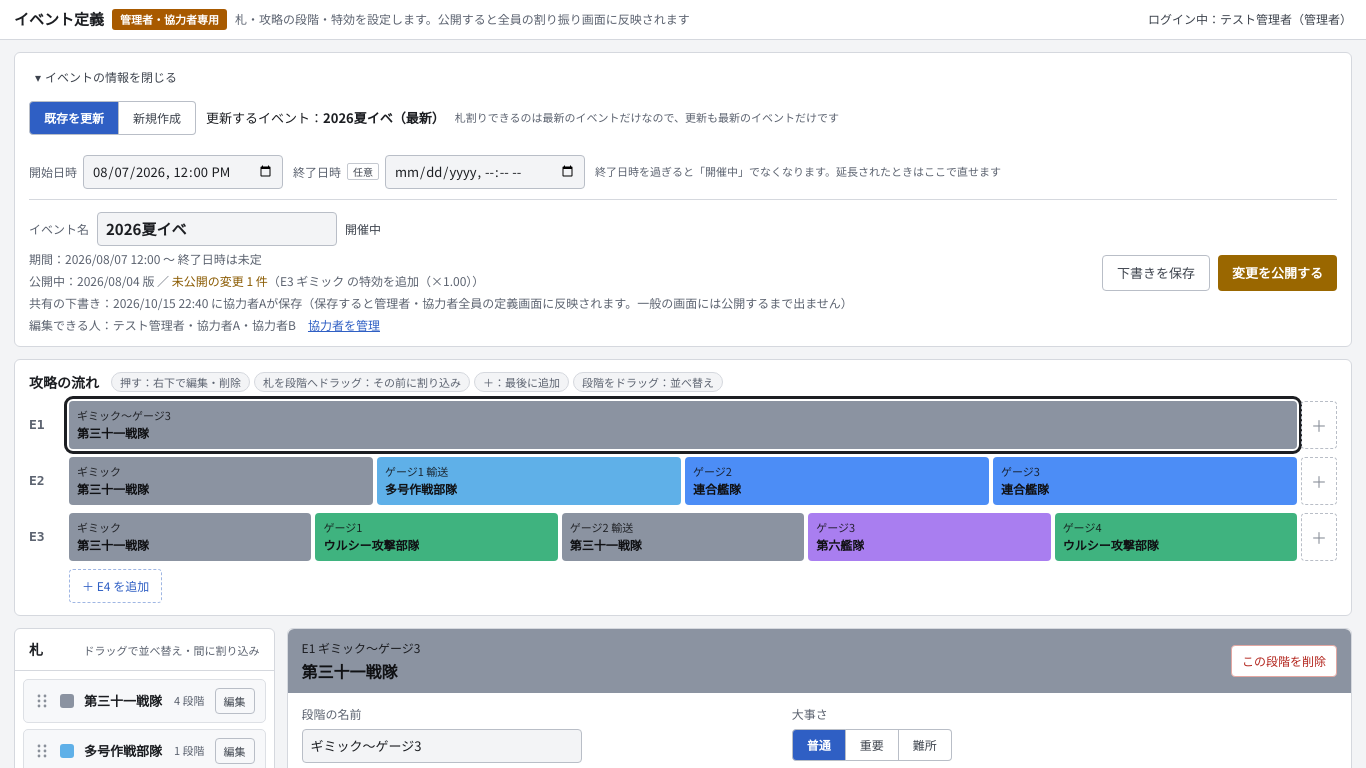
Test: イベント定義の画面（PlanEditor）：公開の前の確認（UI／UX の指摘 中8） › 警告の一覧 › 空の特効グループ（名前なし・×1・艦名なし・国籍なし）が、選んでいない段階（E3 ギミック）にあっても、「空の特効グループ」と段階名を警告する
The image size is (1366, 768).
Expected: the element "攻略の流れ" is shown, [14,358,1352,616]
Click the button "変更を公開する". click: (1278, 272)
box: [1218,254,1337,290]
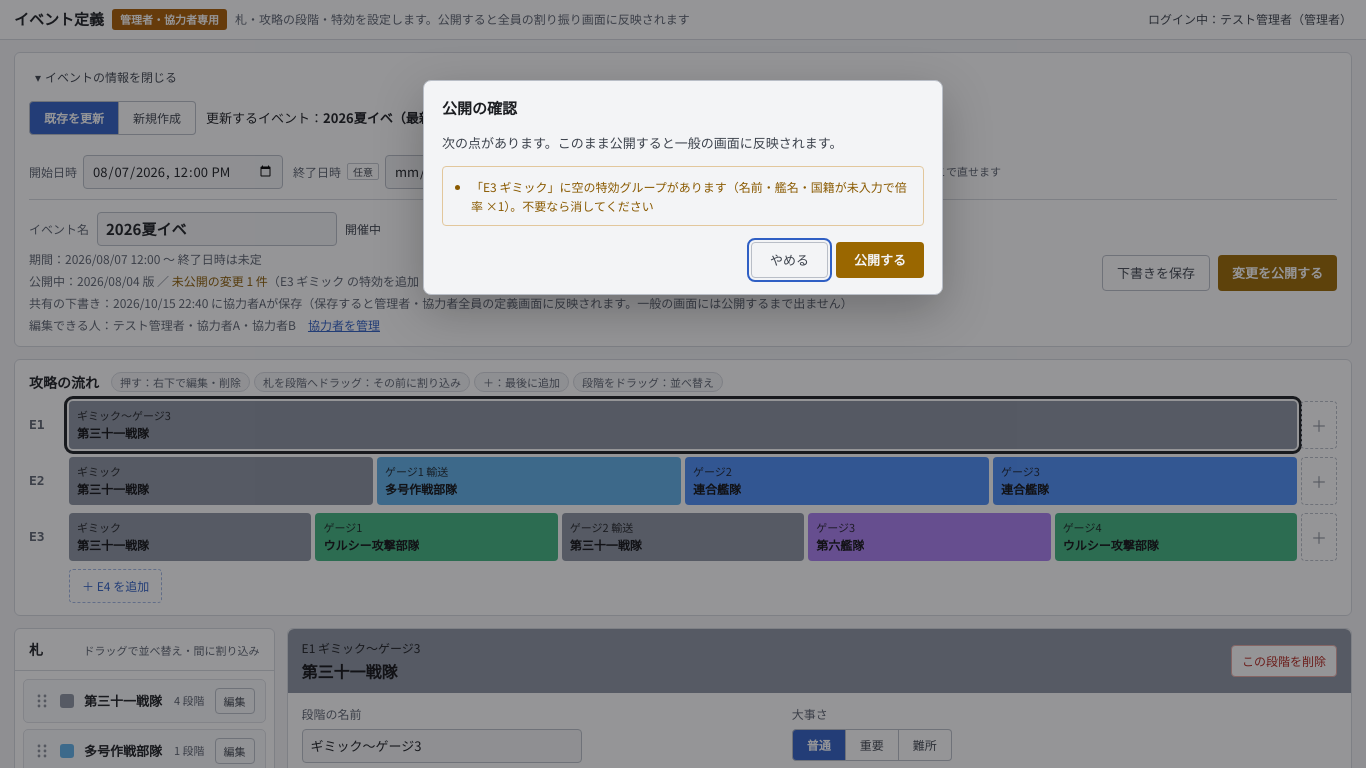
Expected: the dialog "公開の確認" shows "空の特効グループ", [471,178,907,214]
Expected: the dialog "公開の確認" shows "E3 ギミック", [471,178,907,214]
